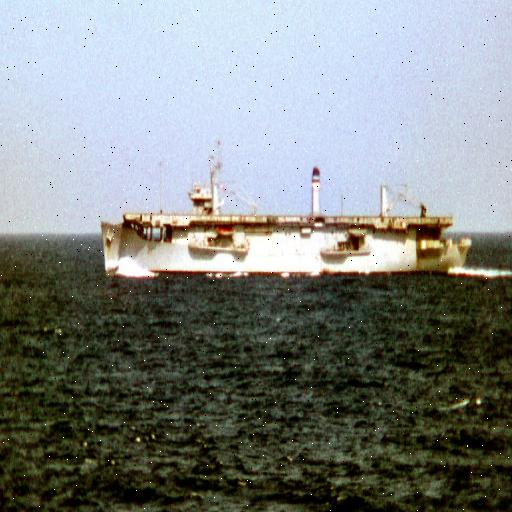Portanaves: (94, 130, 474, 289)
